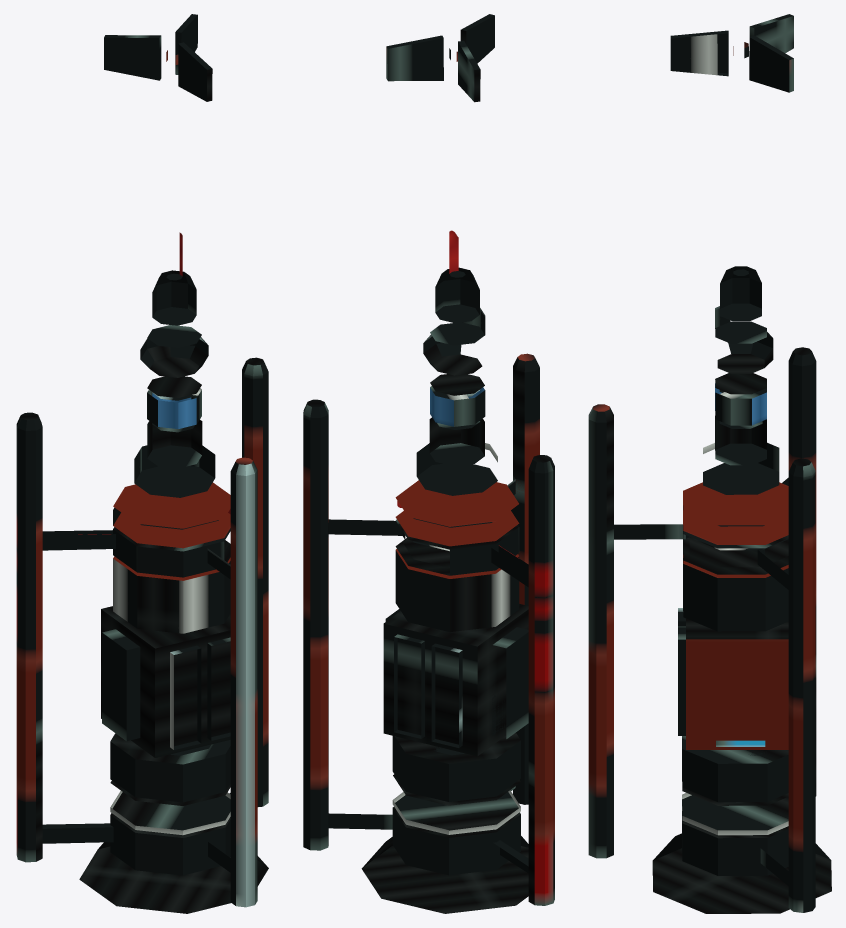
The model's file is moisture_vaporator.obj.
3 views of the same model, side by side, from view 1: azimuth 30°, elevation 25°; view 2: azimuth 150°, elevation 25°; view 3: azimuth 270°, elevation 25° (orthographic).
Parts seen in each view (by area): view 1: Circle; view 2: Circle; view 3: Circle.
Part boxes in pixels (bbox=[...]): Circle: bbox=[16, 14, 268, 913]; Circle: bbox=[303, 14, 554, 913]; Circle: bbox=[588, 14, 831, 913].
Bounding box in the file's own units: 0.9533 × 3 × 0.792.
